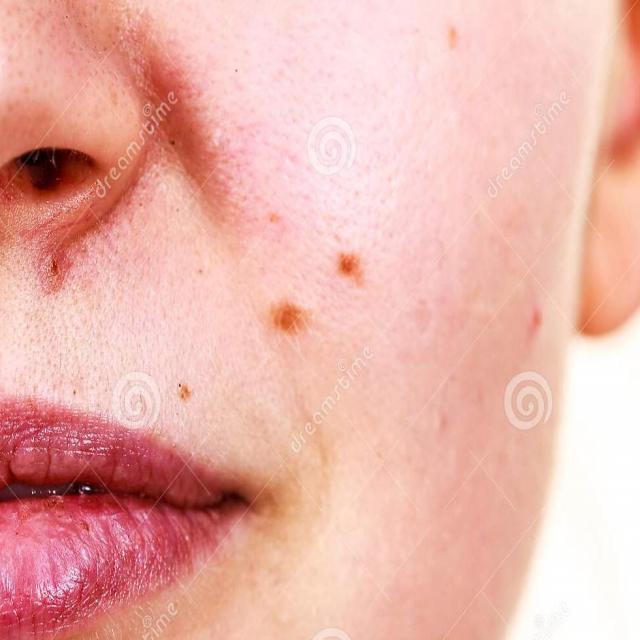blackheads: (266, 291, 307, 339), (334, 239, 364, 278), (38, 244, 62, 288), (524, 298, 544, 334), (445, 20, 462, 50), (265, 206, 288, 223), (174, 374, 187, 398)
